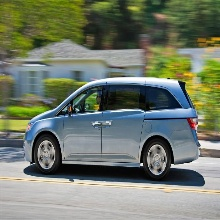no damage: (23, 76, 202, 181)
